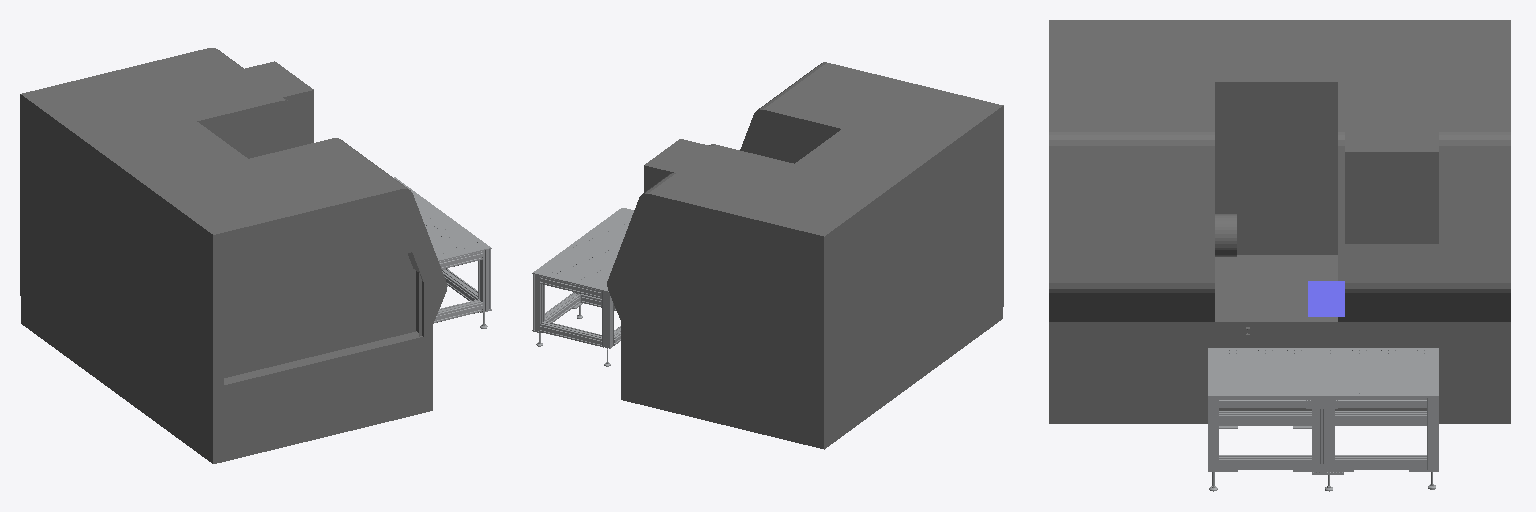
robot.urdf — robot:
<?xml version="1.0" encoding="UTF-8" ?>
<robot name="robot">
    <link name="world" />
    <link name="machine">
        <visual>
            <geometry>
                <mesh filename="package://robotplus_description/meshes/machine.STL" />
            </geometry>
            <material name="">
                <color rgba="0.5 0.5 0.5 1" />
            </material>
        </visual>
        <collision>
            <origin xyz="0 0 0" rpy="0 0 0" />
            <geometry>
                <mesh filename="package://robotplus_description/meshes/machine.STL" />
            </geometry>
        </collision>
        <inertial>
            <mass value="0.1" />
            <origin xyz="0 0 0" rpy="0 0 0" />
            <inertia ixx="0.03" iyy="0.03" izz="0.03" ixy="0.0" ixz="0.0" iyz="0.0" />
        </inertial>
    </link>
    <link name="base">
        <visual>
            <geometry>
                <mesh filename="package://robotplus_description/meshes/base.STL" />
            </geometry>
            <material name="">
                <color rgba="0.67 0.68 0.69 1" />
            </material>
        </visual>
        <collision>
            <origin xyz="0 0 0" rpy="0 0 0" />
            <geometry>
                <mesh filename="package://robotplus_description/meshes/base.STL" />
            </geometry>
        </collision>
        <inertial>
            <mass value="0.1" />
            <origin xyz="0 0 0" rpy="0 0 0" />
            <inertia ixx="0.03" iyy="0.03" izz="0.03" ixy="0.0" ixz="0.0" iyz="0.0" />
        </inertial>
    </link>
    <link name="base_link">
        <visual>
            <geometry>
                <mesh filename="package://robotplus_description/meshes/UR10e/base_link.STL" />
            </geometry>
            <material name="">
                <color rgba="0.594117647058824 0.594117647058824 0.594117647058824 1" />
            </material>
        </visual>
        <collision>
            <origin xyz="0 0 0" rpy="0 0 0" />
            <geometry>
                <mesh filename="package://robotplus_description/meshes/UR10e/base_link.STL" />
            </geometry>
        </collision>
        <inertial>
            <mass value="0.1" />
            <origin xyz="0 0 0" rpy="0 0 0" />
            <inertia ixx="0.03" iyy="0.03" izz="0.03" ixy="0.0" ixz="0.0" iyz="0.0" />
        </inertial>
    </link>
    <link name="link1">
        <visual>
            <geometry>
                <mesh filename="package://robotplus_description/meshes/UR10e/link1.STL" />
            </geometry>
            <material name="">
                <color rgba="0.79216 0.81961 0.93333 1" />
            </material>
        </visual>
        <collision>
            <origin xyz="0 0 0" rpy="0 0 0" />
            <geometry>
                <mesh filename="package://robotplus_description/meshes/UR10e/link1.STL" />
            </geometry>
        </collision>
        <inertial>
            <mass value="0.1" />
            <origin xyz="0 0 0" rpy="0 0 0" />
            <inertia ixx="0.03" iyy="0.03" izz="0.03" ixy="0.0" ixz="0.0" iyz="0.0" />
        </inertial>
    </link>
    <link name="link2">
        <visual>
            <geometry>
                <mesh filename="package://robotplus_description/meshes/UR10e/link2.STL" />
            </geometry>
            <material name="">
                <color rgba="0.79216 0.81961 0.93333 1" />
            </material>
        </visual>
        <collision>
            <origin xyz="0 0 0" rpy="0 0 0" />
            <geometry>
                <mesh filename="package://robotplus_description/meshes/UR10e/link2.STL" />
            </geometry>
        </collision>
        <inertial>
            <mass value="0.1" />
            <origin xyz="0 0 0" rpy="0 0 0" />
            <inertia ixx="0.03" iyy="0.03" izz="0.03" ixy="0.0" ixz="0.0" iyz="0.0" />
        </inertial>
    </link>
    <link name="link3">
        <visual>
            <geometry>
                <mesh filename="package://robotplus_description/meshes/UR10e/link3.STL" />
            </geometry>
            <material name="">
                <color rgba="0.79216 0.81961 0.93333 1" />
            </material>
        </visual>
        <collision>
            <origin xyz="0 0 0" rpy="0 0 0" />
            <geometry>
                <mesh filename="package://robotplus_description/meshes/UR10e/link3.STL" />
            </geometry>
        </collision>
        <inertial>
            <mass value="0.1" />
            <origin xyz="0 0 0" rpy="0 0 0" />
            <inertia ixx="0.03" iyy="0.03" izz="0.03" ixy="0.0" ixz="0.0" iyz="0.0" />
        </inertial>
    </link>
    <link name="link4">
        <visual>
            <geometry>
                <mesh filename="package://robotplus_description/meshes/UR10e/link4.STL" />
            </geometry>
            <material name="">
                <color rgba="0.79216 0.81961 0.93333 1" />
            </material>
        </visual>
        <collision>
            <origin xyz="0 0 0" rpy="0 0 0" />
            <geometry>
                <mesh filename="package://robotplus_description/meshes/UR10e/link4.STL" />
            </geometry>
        </collision>
        <inertial>
            <mass value="0.1" />
            <origin xyz="0 0 0" rpy="0 0 0" />
            <inertia ixx="0.03" iyy="0.03" izz="0.03" ixy="0.0" ixz="0.0" iyz="0.0" />
        </inertial>
    </link>
    <link name="link5">
        <visual>
            <geometry>
                <mesh filename="package://robotplus_description/meshes/UR10e/link5.STL" />
            </geometry>
            <material name="">
                <color rgba="0.79216 0.81961 0.93333 1" />
            </material>
        </visual>
        <collision>
            <origin xyz="0 0 0" rpy="0 0 0" />
            <geometry>
                <mesh filename="package://robotplus_description/meshes/UR10e/link5.STL" />
            </geometry>
        </collision>
        <inertial>
            <mass value="0.1" />
            <origin xyz="0 0 0" rpy="0 0 0" />
            <inertia ixx="0.03" iyy="0.03" izz="0.03" ixy="0.0" ixz="0.0" iyz="0.0" />
        </inertial>
    </link>
    <link name="link6">
        <visual>
            <geometry>
                <mesh filename="package://robotplus_description/meshes/UR10e/link6.STL" />
            </geometry>
            <material name="">
                <color rgba="0.79216 0.81961 0.93333 1" />
            </material>
        </visual>
        <collision>
            <origin xyz="0 0 0" rpy="0 0 0" />
            <geometry>
                <mesh filename="package://robotplus_description/meshes/UR10e/link6.STL" />
            </geometry>
        </collision>
        <inertial>
            <mass value="0.1" />
            <origin xyz="0 0 0" rpy="0 0 0" />
            <inertia ixx="0.03" iyy="0.03" izz="0.03" ixy="0.0" ixz="0.0" iyz="0.0" />
        </inertial>
    </link>
    <link name="end" />
    <joint name="link6_end" type="fixed">
        <origin xyz="0 0 0.12" rpy="3.1415 0 1.5708" />
        <parent link="link6" />
        <child link="end" />
        <axis xyz="0 0 0" />
    </joint>
    <link name="gripper_cam_jig">
        <visual>
            <origin xyz="0 0 0" rpy="0 0 0" />
            <geometry>
                <mesh filename="package://robotplus_description/meshes/gripper_cam_jig.STL" />
            </geometry>
            <material name="">
                <color rgba="0.898039215686275 0.917647058823529 0.929411764705882 1" />
            </material>
        </visual>
        <collision>
            <origin xyz="0 0 0" rpy="0 0 0" />
            <geometry>
                <mesh filename="package://robotplus_description/meshes/gripper_cam_jig.STL" />
            </geometry>
        </collision>
        <inertial>
            <mass value="0.1" />
            <origin xyz="0 0 0" rpy="0 0 0" />
            <inertia ixx="0.03" iyy="0.03" izz="0.03" ixy="0.0" ixz="0.0" iyz="0.0" />
        </inertial>
    </link>
    <link name="cam">
        <visual>
            <origin xyz="0 0 0" rpy="0 0 0" />
            <geometry>
                <mesh filename="package://robotplus_description/meshes/cam.STL" />
            </geometry>
            <material name="">
                <color rgba="0.792156862745098 0.819607843137255 0.933333333333333 1" />
            </material>
        </visual>
        <collision>
            <origin xyz="0 0 0" rpy="0 0 0" />
            <geometry>
                <mesh filename="package://robotplus_description/meshes/cam.STL" />
            </geometry>
        </collision>
        <inertial>
            <mass value="0.1" />
            <origin xyz="0 0 0" rpy="0 0 0" />
            <inertia ixx="0.03" iyy="0.03" izz="0.03" ixy="0.0" ixz="0.0" iyz="0.0" />
        </inertial>
    </link>
    <link name="marker_plate">
        <inertial>
			<origin xyz="0.0 0.009 0.0" rpy="0 0 0"/>
			<mass value="2.83099"/>
			<inertia ixx="0.04799" ixy="0.0" ixz="0.0"
				iyy="0.07653" iyz="0.0" izz="0.02914"/>
		</inertial>
        <visual>
            <geometry>
                <mesh filename="package://robotplus_description/models/qr_wall/meshes/qr_wall.dae"/>
            </geometry>
            <material name="">
				<color rgba="0.4980392 0.4980392 1.0 1"/>
			</material>
        </visual>
    </link>

                    <!-- <matrix>0.93969 0 -0.34202 -8.5
                            0 1 0 -10
                            0.34202 0 0.93969 -7.8
                            0 0 0 1</matrix> -->
    <joint name="marker_fixed" type="fixed">
        <origin xyz="1.14 2.05 -0.14" rpy="0 -0.3490658503988659 0"/>
        <parent link="machine"/>
        <child link="marker_plate"/>
    </joint>
    <joint name="jig_cam" type="fixed">
        <origin xyz="-0.0583225279657438 0 -0.0820000000000001" rpy="3.14159265358979 0 1.5707963267949" />
        <parent link="gripper_cam_jig" />
        <child link="cam" />
        <axis xyz="0 0 0" />
    </joint>
    <joint name="machine_fixed" type="fixed">
		<origin xyz="-0.58 -1.52 0" rpy="0 -1.5709 0" />
		<parent link="world" />
		<child link="machine" />
	</joint>
	<joint name="base_fixed" type="fixed">
		<origin xyz="0.42 0.62 0" rpy="-1.5709 0 3.1416"/>
		<parent link="base_link"/>
		<child link="base"/>
	</joint>
	<joint name="base_link_fixed" type="fixed">
		<origin xyz="0 0 0.77" rpy="0 0 -1.5709"/>
		<parent link="world"/>
		<child link="base_link"/>
	</joint>
    <joint name="q1" type="revolute">
        <origin xyz="0 0 0" rpy="0 0 0" />
        <parent link="base_link" />
        <child link="link1" />
        <axis xyz="0 0 1" />
        <limit lower="-3.14" upper="3.14" effort="100" velocity="10" />
    </joint>
    <joint name="q2" type="revolute">
        <origin xyz="0 0 0.1807" rpy="1.5708 1.5708 0" />
        <parent link="link1" />
        <child link="link2" />
        <axis xyz="0 0 1" />
        <limit lower="-3.14" upper="3.14" effort="100" velocity="10" />
    </joint>
    <joint name="q3" type="revolute">
        <origin xyz="-0.6127 0 0" rpy="0 0 0" />
        <parent link="link2" />
        <child link="link3" />
        <axis xyz="0 0 1" />
        <limit lower="-3.14" upper="3.14" effort="100" velocity="10" />
    </joint>
    <joint name="q4" type="revolute">
        <origin xyz="-0.57155 0 0" rpy="0 0 -1.5708" />
        <parent link="link3" />
        <child link="link4" />
        <axis xyz="0 0 1" />
        <limit lower="-3.14" upper="3.14" effort="100" velocity="10" />
    </joint>
    <joint name="q5" type="revolute">
        <origin xyz="0 0 0.17415" rpy="1.5708 0 0" />
        <parent link="link4" />
        <child link="link5" />
        <axis xyz="0 0 1" />
        <limit lower="-3.14" upper="3.14" effort="100" velocity="10" />
    </joint>
    <joint name="q6" type="revolute">
        <origin xyz="0 0 0.11985" rpy="-1.5708 0 0" />
        <parent link="link5" />
        <child link="link6" />
        <axis xyz="0 0 1" />
        <limit lower="-3.14" upper="3.14" effort="100" velocity="10" />
    </joint>
    <joint name="link6_jig" type="fixed">
        <origin xyz="0 0 0.12" rpy="3.1416 0 1.5709" />
        <parent link="link6" />
        <child link="gripper_cam_jig" />
        <axis xyz="0 0 0" />
    </joint>
    <transmission name="trans_q1">
        <type>transmission_interface/SimpleTransmission</type>
        <joint name="q1">
            <hardwareInterface>hardware_interface/PositionJointInterface</hardwareInterface>
        </joint>
        <actuator name="q1_motor">
            <hardwareInterface>hardware_interface/PositionJointInterface</hardwareInterface>
            <mechanicalReduction>1</mechanicalReduction>
        </actuator>
    </transmission>
    <transmission name="trans_q2">
        <type>transmission_interface/SimpleTransmission</type>
        <joint name="q2">
            <hardwareInterface>hardware_interface/PositionJointInterface</hardwareInterface>
        </joint>
        <actuator name="q2_motor">
            <hardwareInterface>hardware_interface/PositionJointInterface</hardwareInterface>
            <mechanicalReduction>1</mechanicalReduction>
        </actuator>
    </transmission>
    <transmission name="trans_q3">
        <type>transmission_interface/SimpleTransmission</type>
        <joint name="q3">
            <hardwareInterface>hardware_interface/PositionJointInterface</hardwareInterface>
        </joint>
        <actuator name="q3_motor">
            <hardwareInterface>hardware_interface/PositionJointInterface</hardwareInterface>
            <mechanicalReduction>1</mechanicalReduction>
        </actuator>
    </transmission>
    <transmission name="trans_q4">
        <type>transmission_interface/SimpleTransmission</type>
        <joint name="q4">
            <hardwareInterface>hardware_interface/PositionJointInterface</hardwareInterface>
        </joint>
        <actuator name="q4_motor">
            <hardwareInterface>hardware_interface/PositionJointInterface</hardwareInterface>
            <mechanicalReduction>1</mechanicalReduction>
        </actuator>
    </transmission>
    <transmission name="trans_q5">
        <type>transmission_interface/SimpleTransmission</type>
        <joint name="q5">
            <hardwareInterface>hardware_interface/PositionJointInterface</hardwareInterface>
        </joint>
        <actuator name="q5_motor">
            <hardwareInterface>hardware_interface/PositionJointInterface</hardwareInterface>
            <mechanicalReduction>1</mechanicalReduction>
        </actuator>
    </transmission>
    <transmission name="trans_q6">
        <type>transmission_interface/SimpleTransmission</type>
        <joint name="q6">
            <hardwareInterface>hardware_interface/PositionJointInterface</hardwareInterface>
        </joint>
        <actuator name="q6_motor">
            <hardwareInterface>hardware_interface/PositionJointInterface</hardwareInterface>
            <mechanicalReduction>1</mechanicalReduction>
        </actuator>
    </transmission>
    <gazebo>
        <plugin name="gazebo_ros_control" filename="libgazebo_ros_control.so">
            <robotNamespace>/</robotNamespace>
        </plugin>
    </gazebo>
    <link name="cam_optical" />
    <joint name="cam_joint" type="fixed">
        <origin xyz="0 0 0.02495" rpy="-1.5708 -1.5708 3.1416" />
        <parent link="cam" />
        <child link="cam_optical" />
        <axis xyz="0 0 0" />
    </joint>
    <gazebo reference="cam_optical">
        <sensor type="camera" name="Realsense">
            <always_on>true</always_on>
            <visualize>true</visualize>
            <camera>
                <horizontal_fov>1.085595</horizontal_fov>
                <image>
                    <width>640</width>
                    <height>480</height>
                    <format>R8G8B8</format>
                </image>
                <clip>
                    <near>0.01</near>
                    <far>100</far>
                </clip>
            </camera>
            <plugin name="camera_controller" filename="libgazebo_ros_camera.so">
                <alwaysOn>true</alwaysOn>
                <updateRate>30.0</updateRate>
                <cameraName>camera</cameraName>
                <frameName>cam_optical</frameName>
                <imageTopicName>rgb/image_raw</imageTopicName>
                <cameraInfoTopicName>rgb/camera_info</cameraInfoTopicName>
                <hackBaselink>0.07</hackBaselink>
                <distortionK1>0.0</distortionK1>
                <distortionK2>0.0</distortionK2>
                <distortionK3>0.0</distortionK3>
                <distortionT1>0.0</distortionT1>
                <distortionT2>0.0</distortionT2>
            </plugin>
        </sensor>
    </gazebo>
    <gazebo reference="machine">
        <material>Gazebo/Grey</material>
    </gazebo>
    <gazebo reference="base">
        <turnGravityOff>true</turnGravityOff>
     </gazebo>
</robot>

--- Render facts (derived) ---
The picture shows the robot from 3 angles, left to right: view 1: azimuth 30°, elevation 25°; view 2: azimuth 150°, elevation 25°; view 3: azimuth 270°, elevation 25°; orthographic projection.
Robot: robot — 15 links, 14 joints (6 revolute, 8 fixed); root link world; default pose: every joint at zero.
Links seen in each view (by area): view 1: machine, base; view 2: machine, base; view 3: machine, base, marker_plate.
Boxes of the visible links, x1=… form: machine: x1=20, y1=48, x2=446, y2=463; base: x1=394, y1=177, x2=491, y2=328; machine: x1=607, y1=62, x2=1003, y2=449; base: x1=532, y1=208, x2=633, y2=366; machine: x1=1049, y1=20, x2=1510, y2=423; base: x1=1208, y1=348, x2=1438, y2=491; marker_plate: x1=1308, y1=281, x2=1344, y2=316.
Size in the robot's own frame: 3.31 by 3.2 by 2.1 metres.
3 mesh visuals loaded from 12 distinct referenced files (2 binary STL, 1 Collada DAE); not drawn: 9 (reference not matched to a file when rendering).